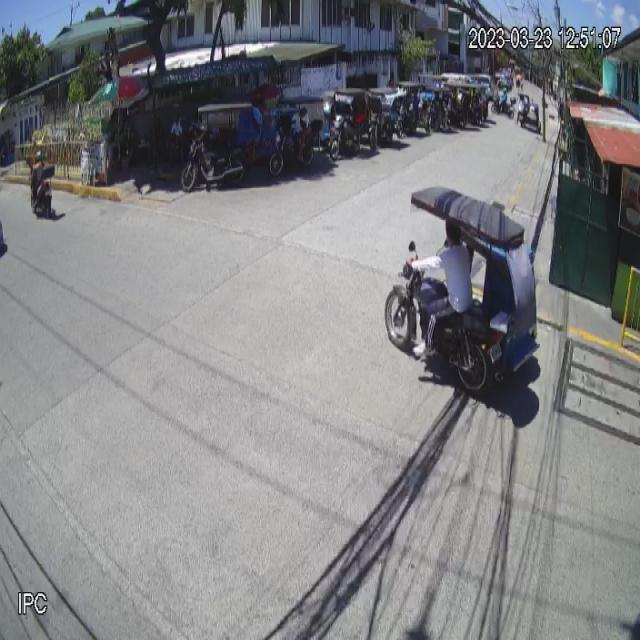Tricycle: (385, 182, 543, 401)
